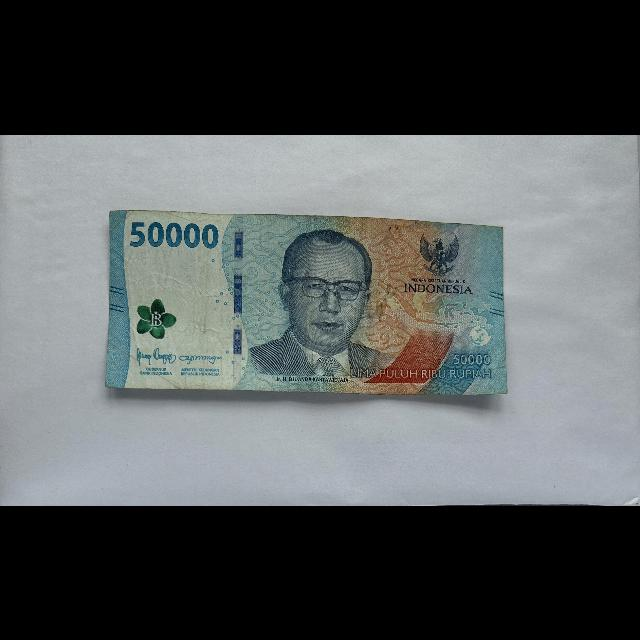Asli-50k: (103, 207, 509, 396)
Tinta-Asli-50k: (135, 297, 177, 340)
